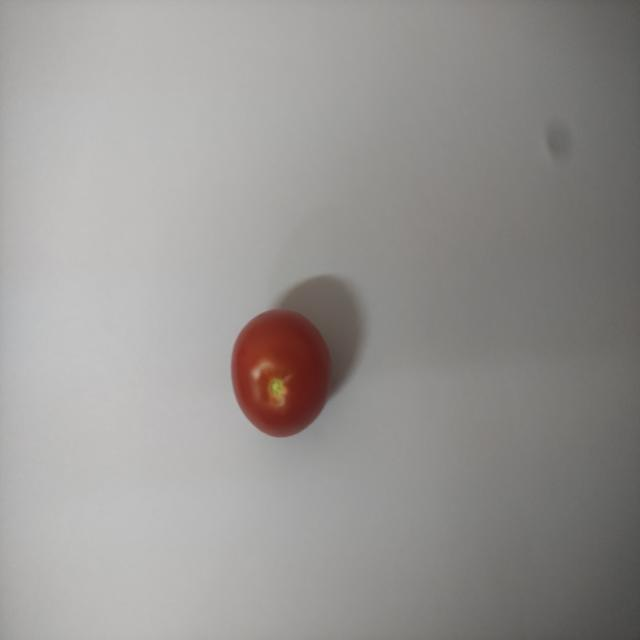kirmizi: (226, 302, 357, 448)
